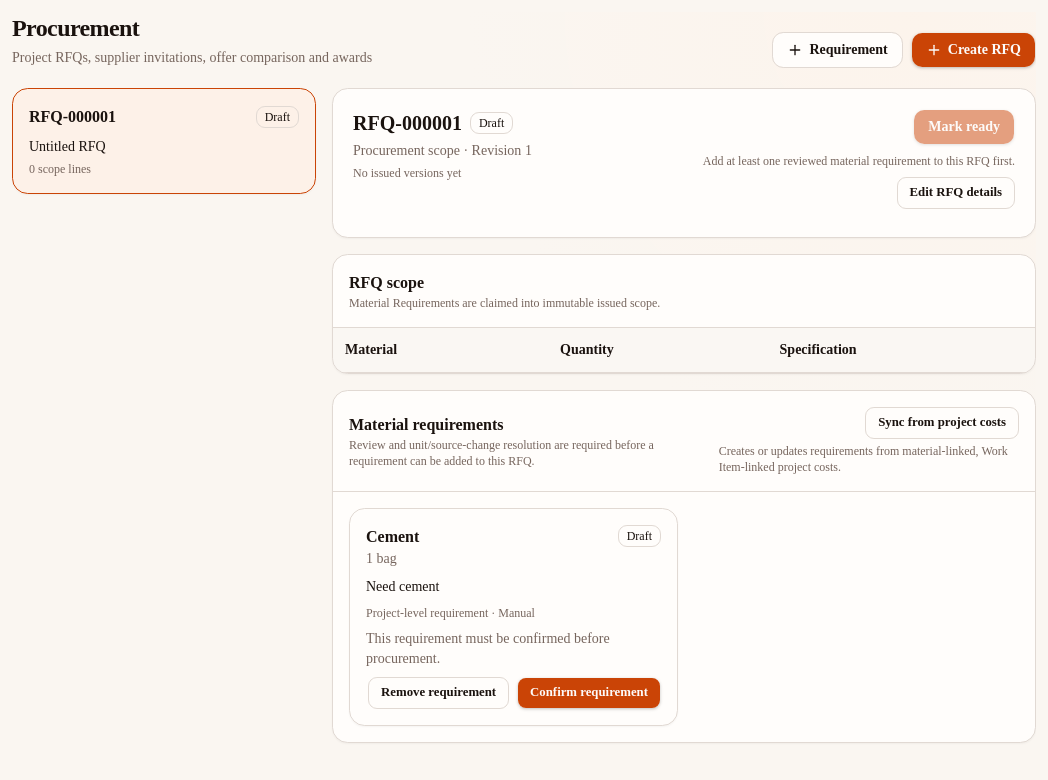
Test case: ProjectProcurement state-aware requirement cards › Review -> after mocked success and awaited refetch, the card shows Add to RFQ only once the server record is reviewed
The image size is (1048, 780).
Click the button "Confirm requirement" at (589, 693), box [517,677,661,709]
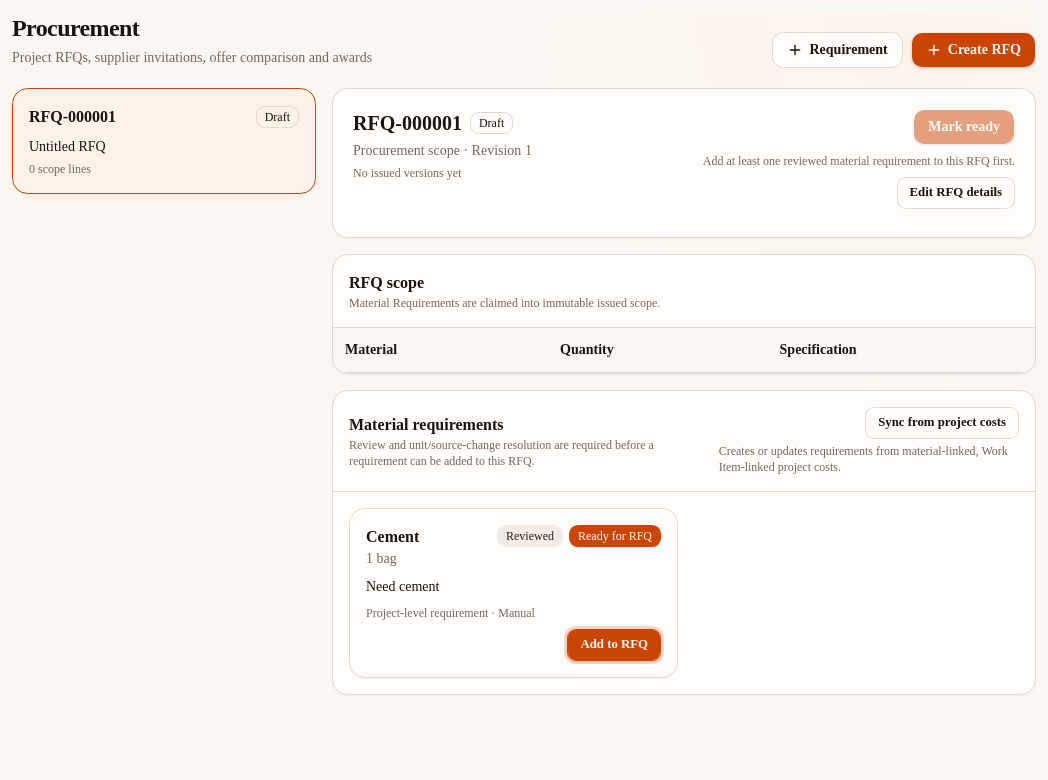
expect the button "Add to RFQ" is shown: met, box [568,629,661,661]
